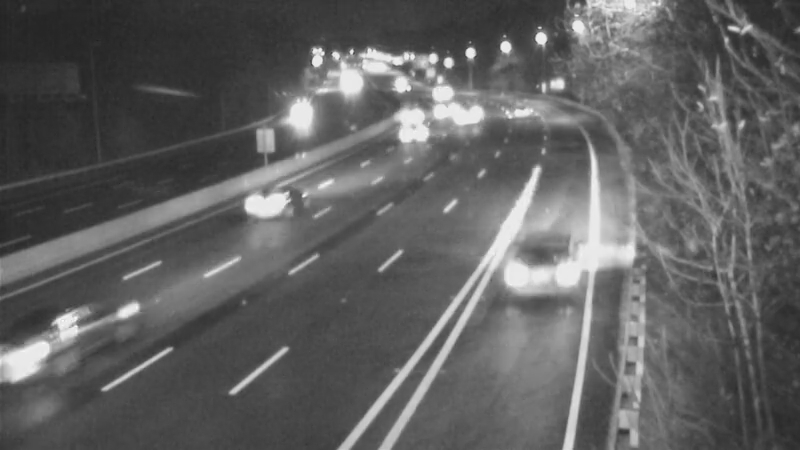vehicle: (1, 301, 98, 411), (242, 151, 322, 231), (507, 221, 587, 301), (412, 63, 462, 113), (418, 82, 468, 132), (431, 93, 481, 143), (382, 91, 432, 141), (495, 83, 545, 133), (393, 106, 443, 156), (270, 94, 320, 144)
